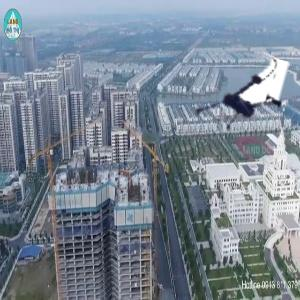drone: (184, 50, 288, 154)
